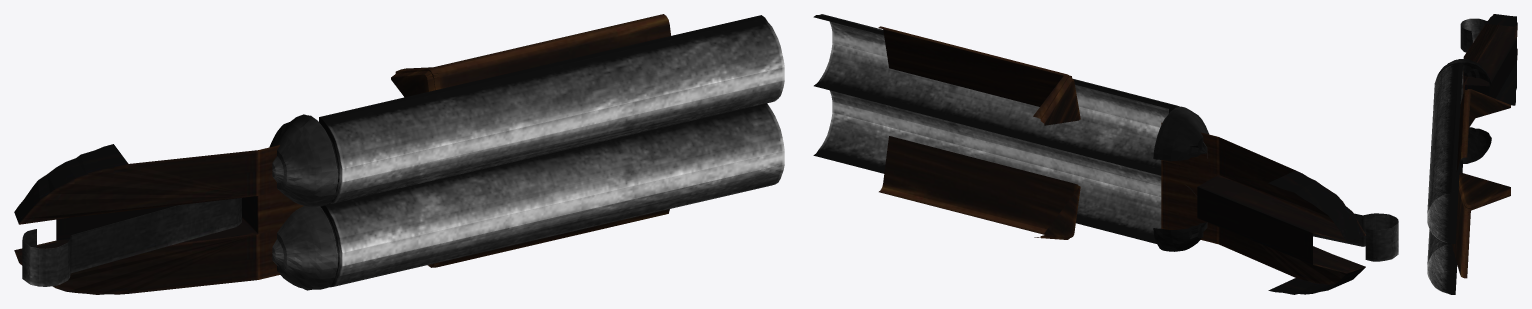
The model's file is v_shot2_6.obj.
3 renders of one model, left to right at view 1: azimuth 30°, elevation 25°; view 2: azimuth 150°, elevation 25°; view 3: azimuth 270°, elevation 25°, orthographic. The views are drawn at different scales.
Bounding box in the file's own units: 10.68 × 2.81 × 1.91.
Materials: 1 (1 with a texture image).
